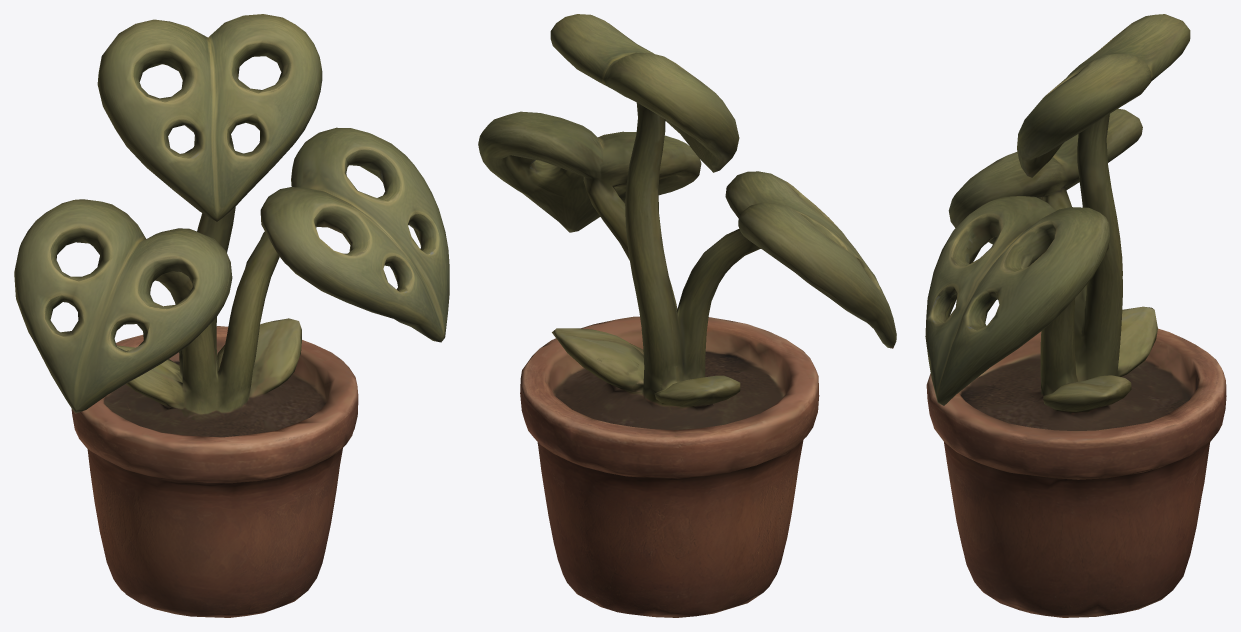
File: Prop_GreenhousePotE.fbx
3 renders of one model, left to right at view 1: azimuth 30°, elevation 25°; view 2: azimuth 150°, elevation 25°; view 3: azimuth 270°, elevation 25°, orthographic. The views are drawn at different scales.
Visible parts, largest first — view 1: texture_mapping; view 2: texture_mapping; view 3: texture_mapping.
Boxes of the visible parts, x1,y1,x2,y2 form: texture_mapping: (14,14,449,617); texture_mapping: (478,14,896,617); texture_mapping: (925,14,1226,617).
Bounding box in the file's own units: 0.7702 × 0.4995 × 1.
1 material, 1 textured.
